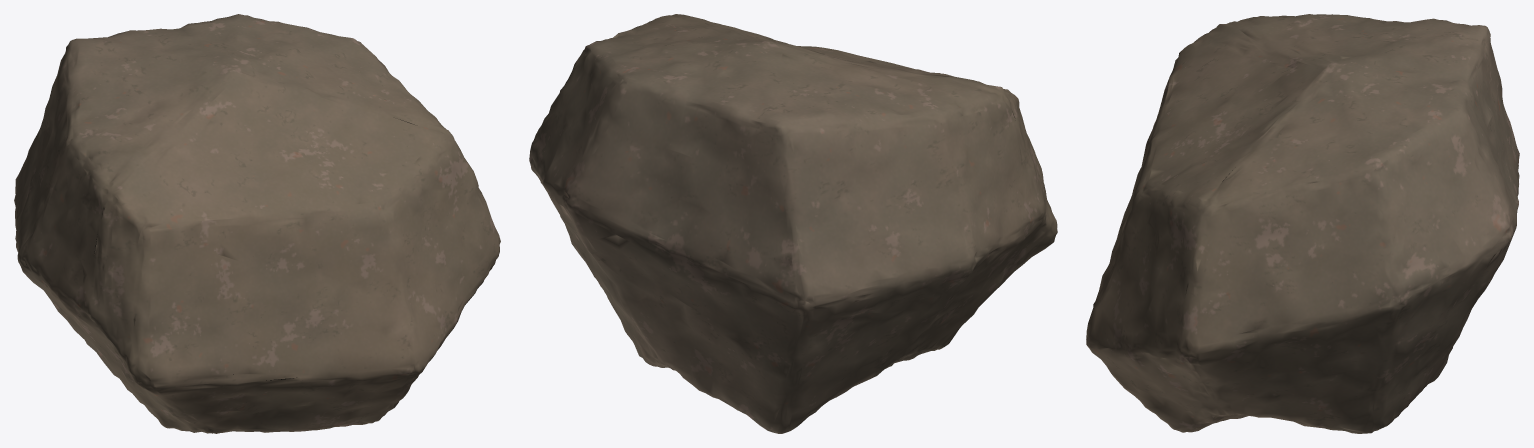
Rendered from ordinary_weathered_rock.fbx.
3 renders of one model, left to right at view 1: azimuth 30°, elevation 25°; view 2: azimuth 150°, elevation 25°; view 3: azimuth 270°, elevation 25°, orthographic. The views are drawn at different scales.
Visible parts, largest first — view 1: SDT_PhotoRock_C_Rock; view 2: SDT_PhotoRock_C_Rock; view 3: SDT_PhotoRock_C_Rock.
Boxes of the visible parts, box(x1,y1,x2,y2) form: SDT_PhotoRock_C_Rock: box(14, 14, 500, 433); SDT_PhotoRock_C_Rock: box(529, 14, 1057, 433); SDT_PhotoRock_C_Rock: box(1086, 14, 1519, 433).
Bounding box in the file's own units: 0.61 × 0.46 × 0.54.
Materials: 1 (1 with a texture image).
